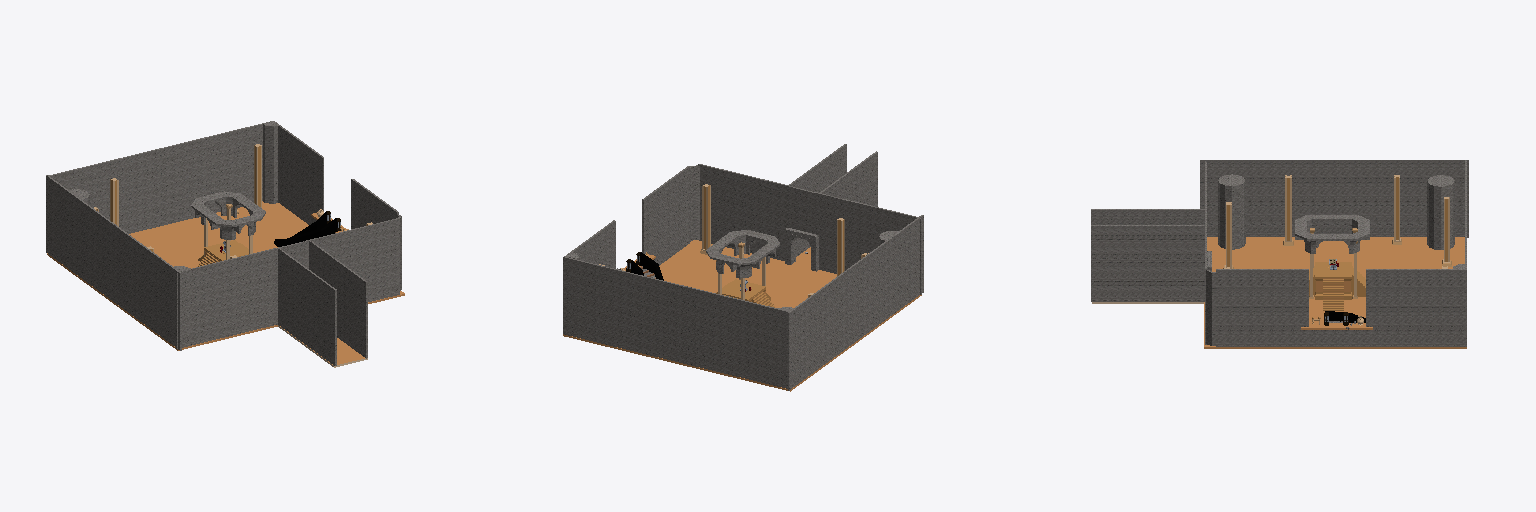
3 renders of one model, left to right at view 1: azimuth 30°, elevation 25°; view 2: azimuth 150°, elevation 25°; view 3: azimuth 270°, elevation 25°, orthographic.
Visible parts, largest first — view 1: mergedBlocks; view 2: mergedBlocks; view 3: mergedBlocks.
Part boxes in pixels (left/top/right/bottom): mergedBlocks: left=46, top=121, right=404, bottom=367; mergedBlocks: left=563, top=144, right=923, bottom=391; mergedBlocks: left=1091, top=160, right=1468, bottom=348.
Bounding box in the file's own units: 25.59 × 8.52 × 35.97.
15 materials, 3 textured.